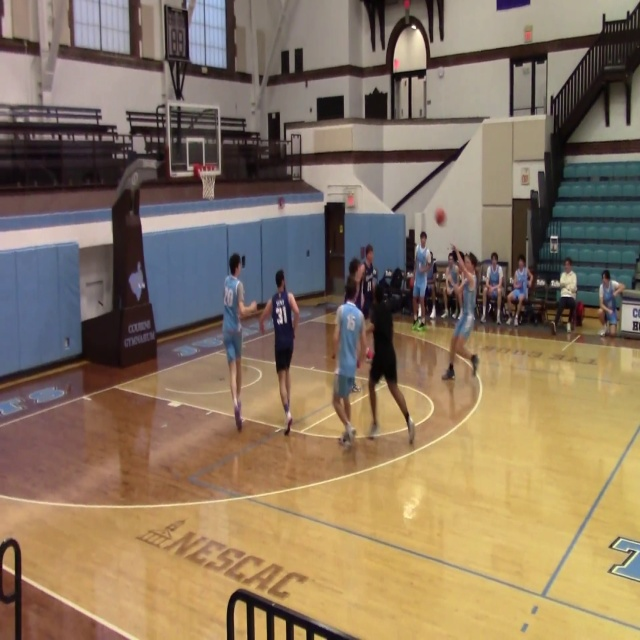Basketball: (434, 208, 446, 225), (365, 347, 373, 359)
